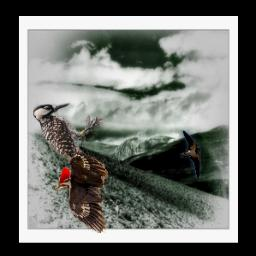Swallow: (174, 130, 201, 178)
Woodpecker: (33, 103, 102, 174), (55, 151, 108, 234)
